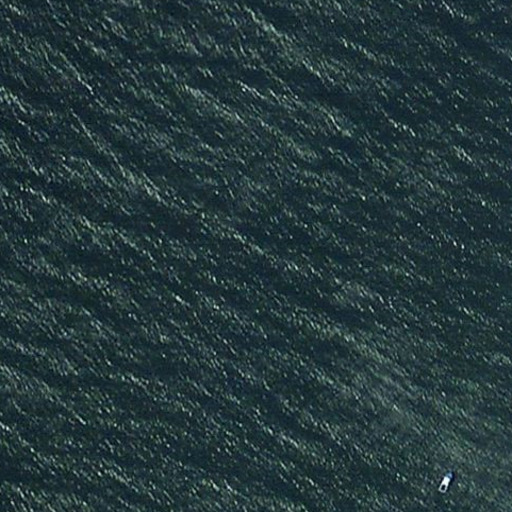ship: (434, 469, 457, 497)
